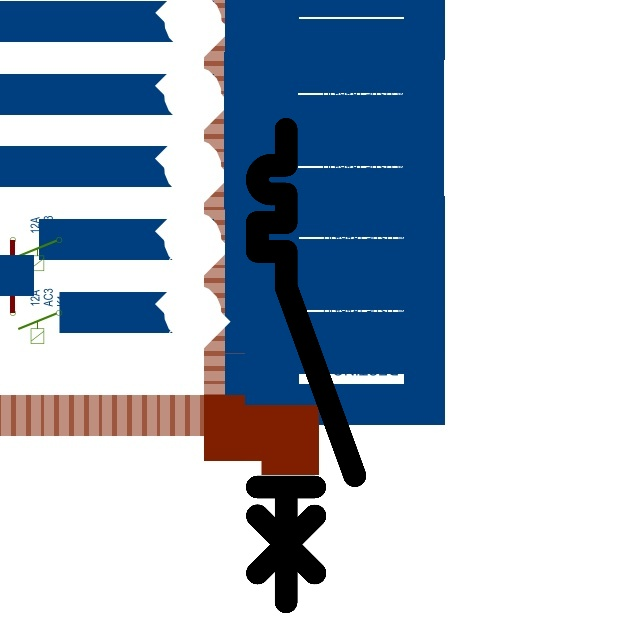interruptor_termomagnetico: (245, 117, 367, 614)
